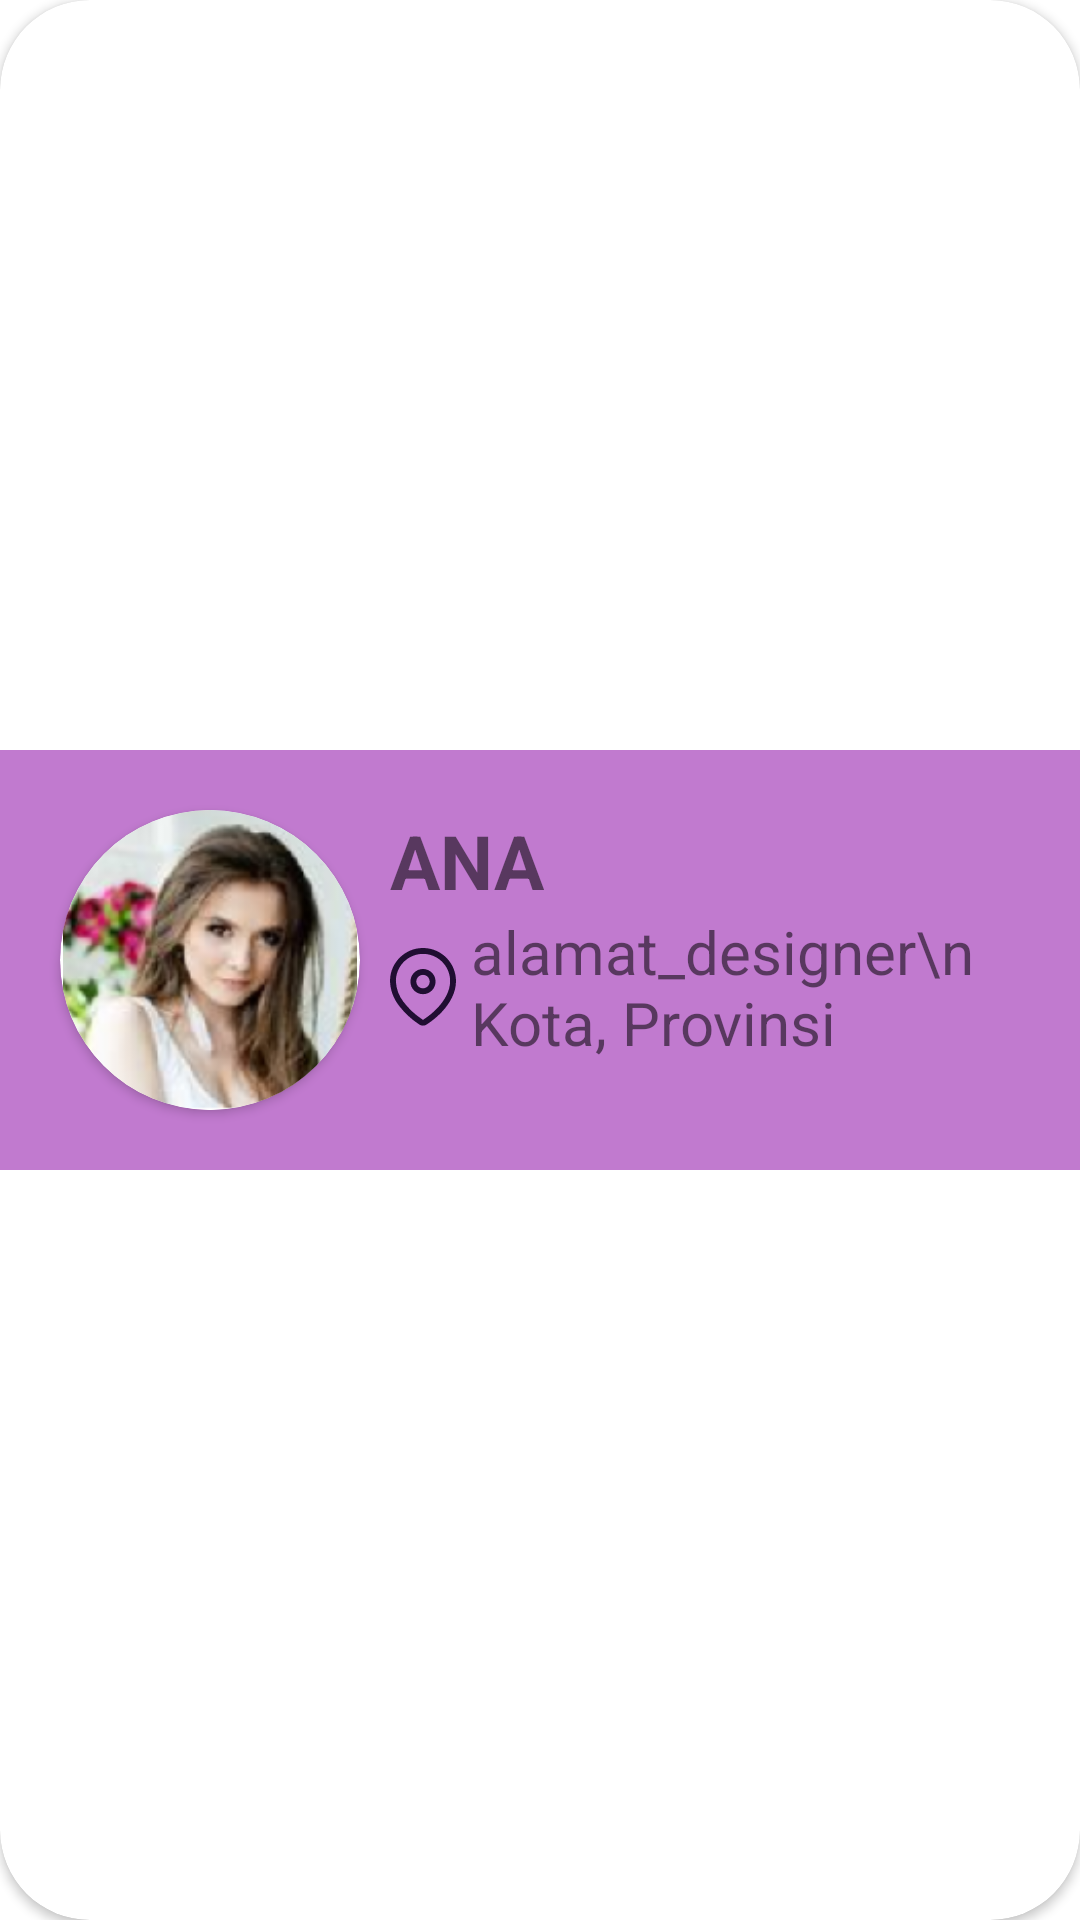

Icons on this 1080px×1920px Android screen, each with its box as (x1=x1, y1=y1, x2=x2, y2=y2):
face: (x1=60, y1=810, x2=360, y2=1110)
